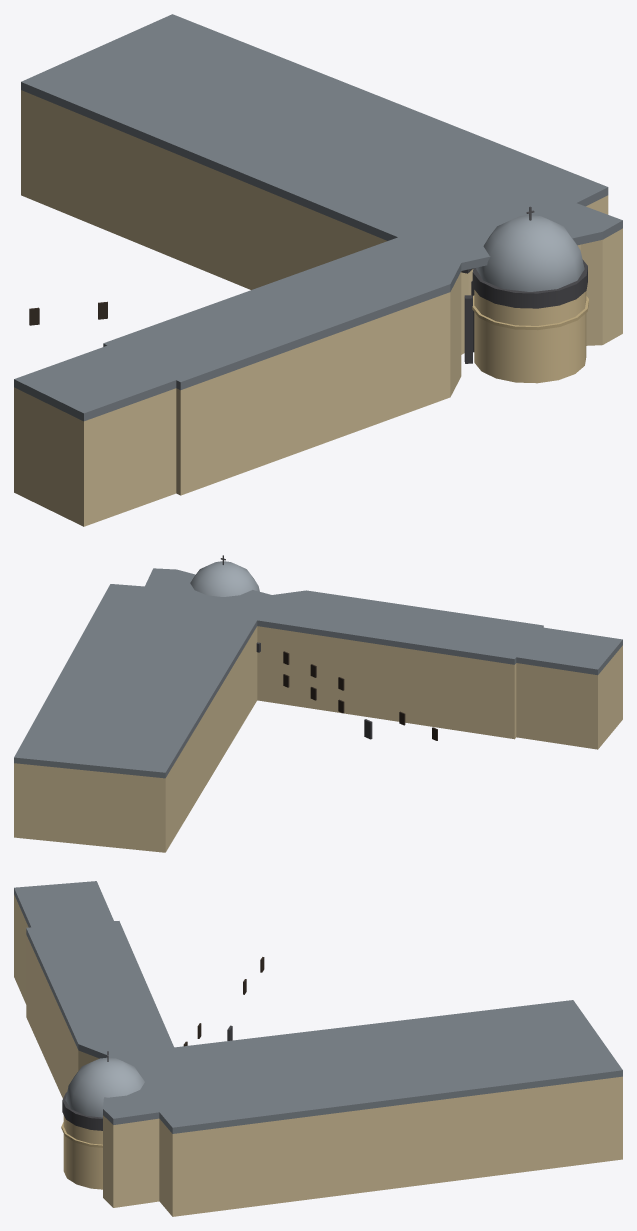
The model's file is ancienne-chapelle-des-carmes-dechaux.glb.
The picture shows the model from 3 angles, top to bottom: view 1: azimuth 30°, elevation 25°; view 2: azimuth 150°, elevation 25°; view 3: azimuth 270°, elevation 25°; orthographic projection. The views are drawn at different scales.
Visible parts, largest first — view 1: Ancienne chapelle des Carmes-Déchaux (abside et couvent); view 2: Ancienne chapelle des Carmes-Déchaux (abside et couvent); view 3: Ancienne chapelle des Carmes-Déchaux (abside et couvent).
Part boxes in pixels (box(x1,y1,x2,y2)): Ancienne chapelle des Carmes-Déchaux (abside et couvent): box(14, 14, 622, 526); Ancienne chapelle des Carmes-Déchaux (abside et couvent): box(14, 555, 622, 852); Ancienne chapelle des Carmes-Déchaux (abside et couvent): box(14, 881, 622, 1216).
Size of the model in its own units: 67 by 15.2 by 69.9.
